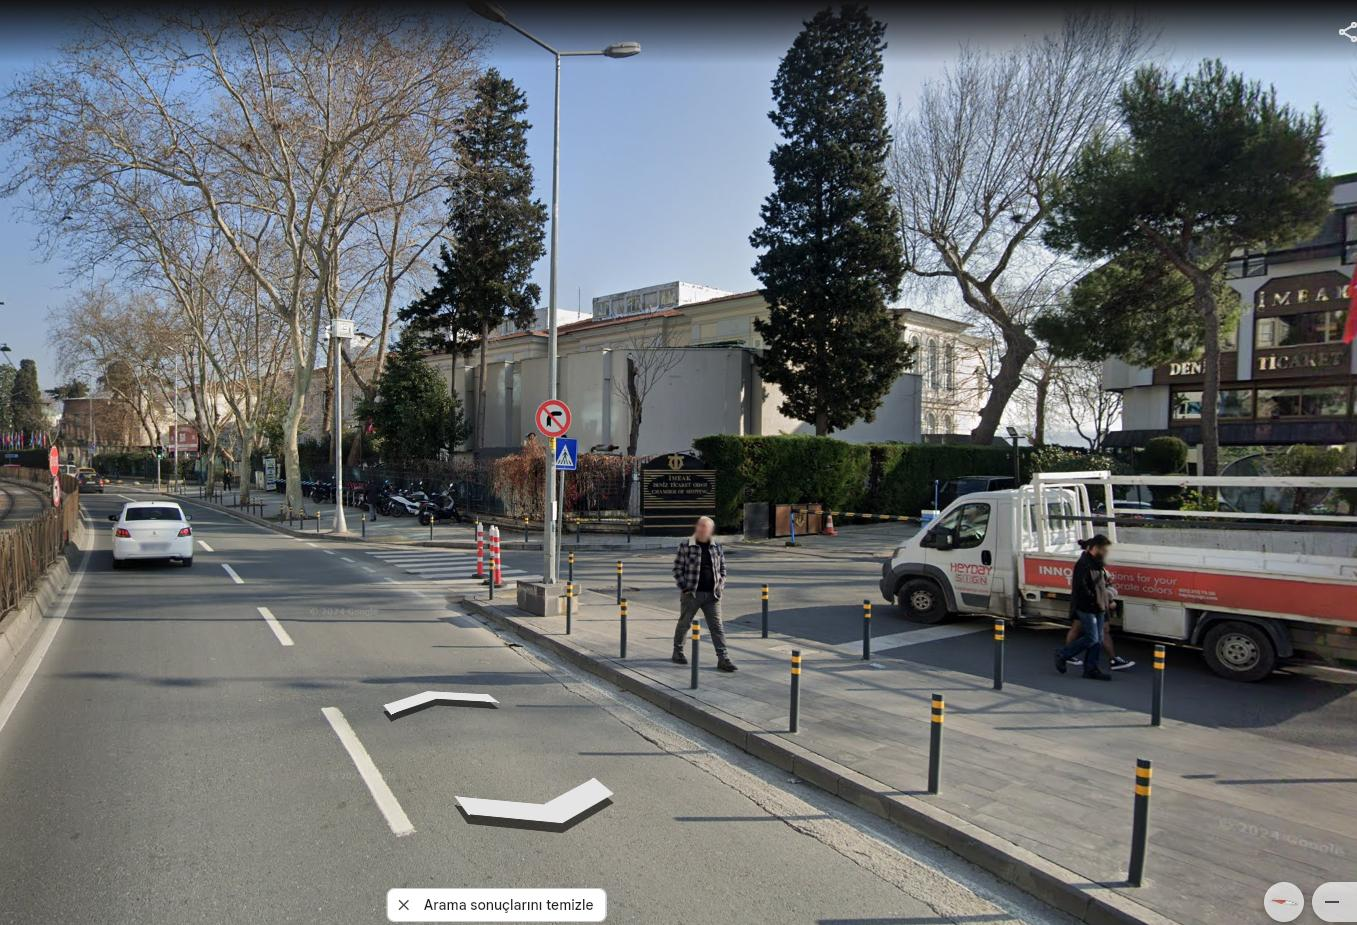rightturnsareforbidden: (536, 399, 573, 436)
